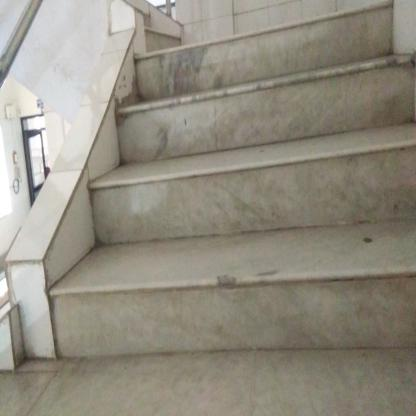stairs: (149, 6, 373, 382)
